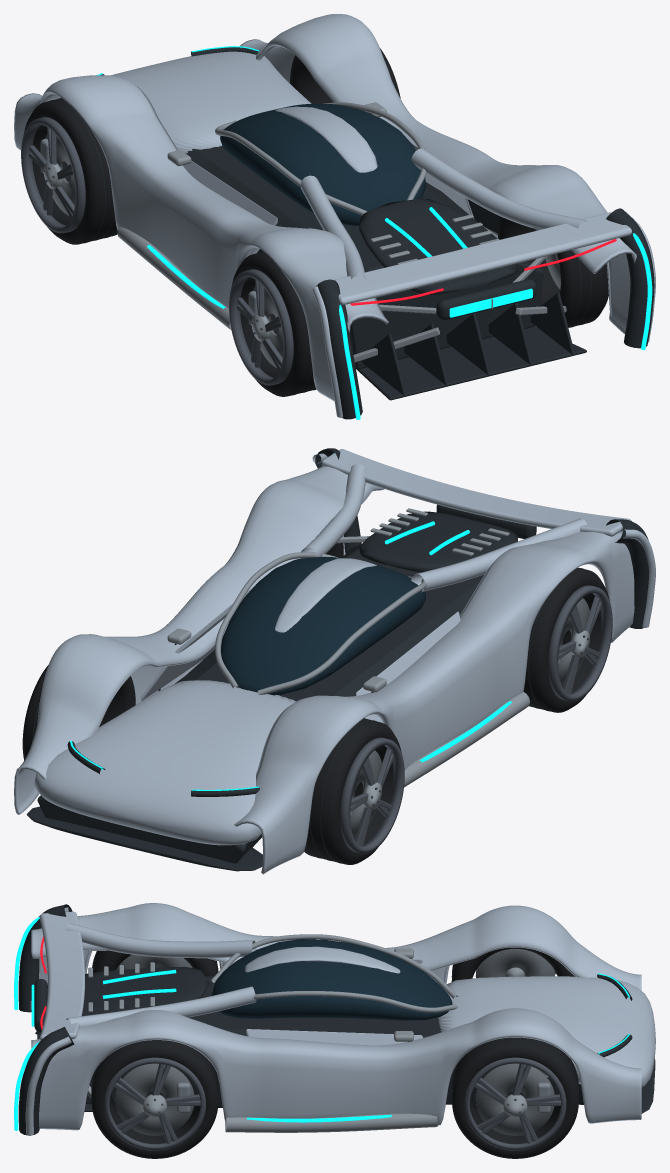
Rendered from Cloudline_C03.fbx.
3 views of the same model, one above another, from view 1: azimuth 30°, elevation 25°; view 2: azimuth 150°, elevation 25°; view 3: azimuth 270°, elevation 25° (orthographic). The views are drawn at different scales.
Visible parts, largest first — view 1: Continuous silver haunch -1, Continuous silver haunch 1, Inset canopy, Low silver nose, Low carbon chassis, Swept full-width rear bridge, Engine cover, Front tire -1, Recessed diffuser floor, Rear tire -1, Rear tire 1, Silver buttress 1 (+24 smaller); view 2: Continuous silver haunch -1, Low silver nose, Continuous silver haunch 1, Inset canopy, Low carbon chassis, Swept full-width rear bridge, Front tire -1, Engine cover, Rear tire -1, Front aero lip, Rear rim lip -1, Front rim lip -1 (+14 smaller); view 3: Continuous silver haunch 1, Continuous silver haunch -1, Inset canopy, Low silver nose, Front tire 1, Rear tire 1, Swept full-width rear bridge, Low carbon chassis, Engine cover, Silver buttress -1, Lower silver sill 1, Front brake rotor 1 (+22 smaller).
Boxes of the visible parts, bbox=[...] form: Continuous silver haunch -1: bbox=[14, 75, 388, 401]; Continuous silver haunch 1: bbox=[240, 14, 636, 333]; Inset canopy: bbox=[220, 104, 425, 225]; Low silver nose: bbox=[45, 51, 311, 153]; Low carbon chassis: bbox=[186, 145, 543, 369]; Swept full-width rear bridge: bbox=[334, 212, 631, 304]; Engine cover: bbox=[359, 198, 517, 294]; Front tire -1: bbox=[24, 98, 117, 244]; Recessed diffuser floor: bbox=[356, 326, 586, 400]; Rear tire -1: bbox=[232, 251, 315, 396]; Rear tire 1: bbox=[498, 216, 608, 327]; Silver buttress 1: bbox=[411, 148, 586, 229]; Continuous silver haunch -1: bbox=[234, 531, 634, 874]; Low silver nose: bbox=[34, 680, 295, 845]; Continuous silver haunch 1: bbox=[14, 466, 384, 814]; Inset canopy: bbox=[221, 557, 425, 695]; Low carbon chassis: bbox=[37, 544, 484, 863]; Swept full-width rear bridge: bbox=[321, 449, 631, 536]; Front tire -1: bbox=[304, 718, 401, 864]; Engine cover: bbox=[359, 511, 517, 572]; Rear tire -1: bbox=[523, 567, 609, 712]; Front aero lip: bbox=[26, 806, 262, 871]; Rear rim lip -1: bbox=[548, 585, 612, 701]; Front rim lip -1: bbox=[340, 737, 404, 853]; Continuous silver haunch 1: bbox=[31, 1008, 641, 1130]; Continuous silver haunch -1: bbox=[31, 903, 641, 990]; Inset canopy: bbox=[211, 939, 452, 1020]; Low silver nose: bbox=[438, 976, 655, 1087]; Front tire 1: bbox=[452, 1037, 578, 1158]; Rear tire 1: bbox=[91, 1040, 218, 1158]; Swept full-width rear bridge: bbox=[39, 911, 84, 1040]; Low carbon chassis: bbox=[111, 976, 583, 1107]; Engine cover: bbox=[82, 966, 209, 1016]; Silver buttress -1: bbox=[66, 923, 256, 958]; Lower silver sill 1: bbox=[225, 1113, 437, 1132]; Front brake rotor 1: bbox=[475, 1063, 554, 1135].
Bounding box in the file's own units: 265 × 128 × 518.
